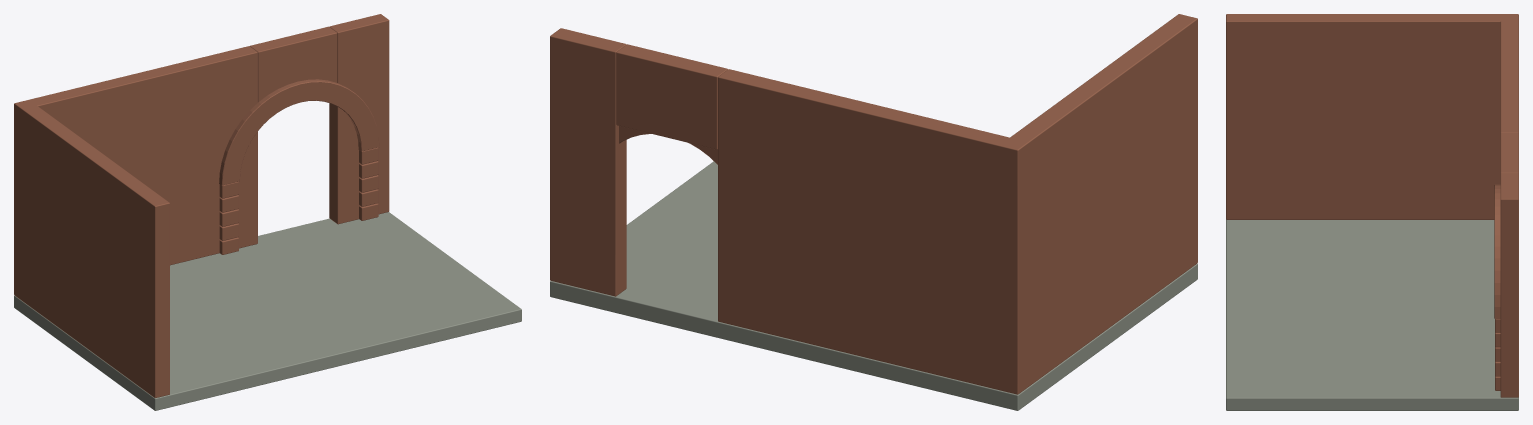
File: undercity-sewers-and-thieves-den-pump-room-shell-b6a25043__25044.glb
3 views of the same model, side by side, from view 1: azimuth 30°, elevation 25°; view 2: azimuth 150°, elevation 25°; view 3: azimuth 270°, elevation 25° (orthographic). The views are drawn at different scales.
Visible parts, largest first — view 1: pump-room-shell; view 2: pump-room-shell; view 3: pump-room-shell.
Boxes of the visible parts, x1,y1,x2,y2 form: pump-room-shell: (14, 14, 521, 410); pump-room-shell: (550, 14, 1197, 410); pump-room-shell: (1226, 14, 1518, 410).
Bounding box in the file's own units: 6 × 3.2 × 4.
